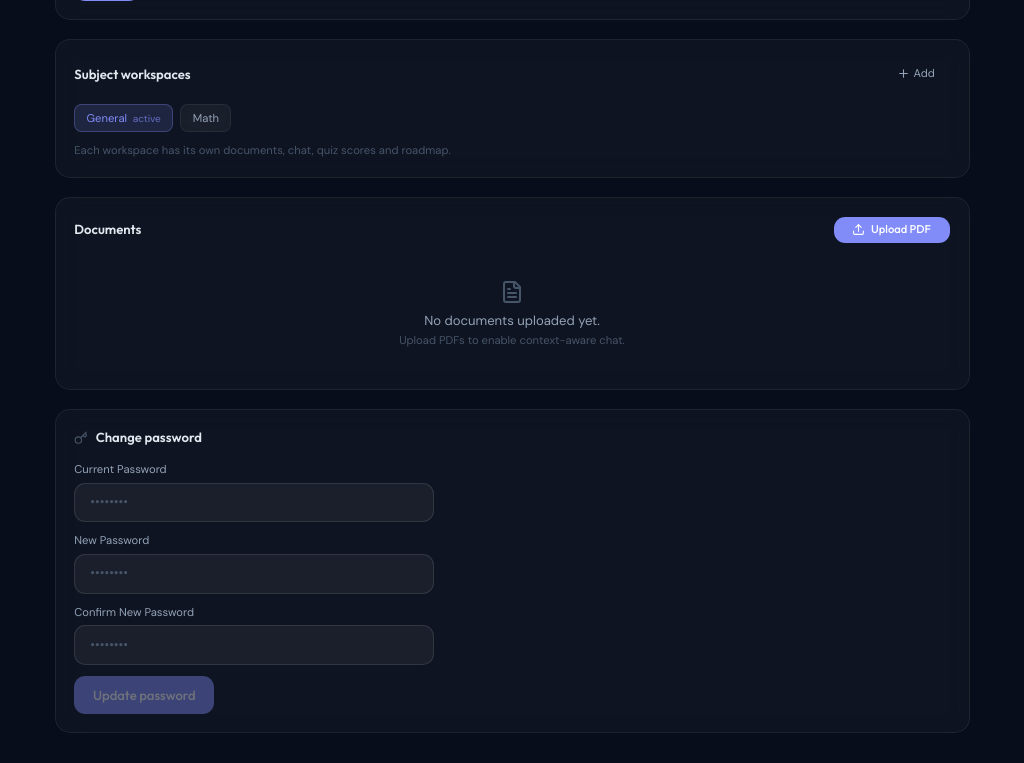
Scenario: ProfilePage › rejects a password change when confirmation does not match
(page scrolled)
Type "oldpass123" into the password field with placeholder "••••••••" below "Current password" at [254, 502], box 74,483 -> 434,522
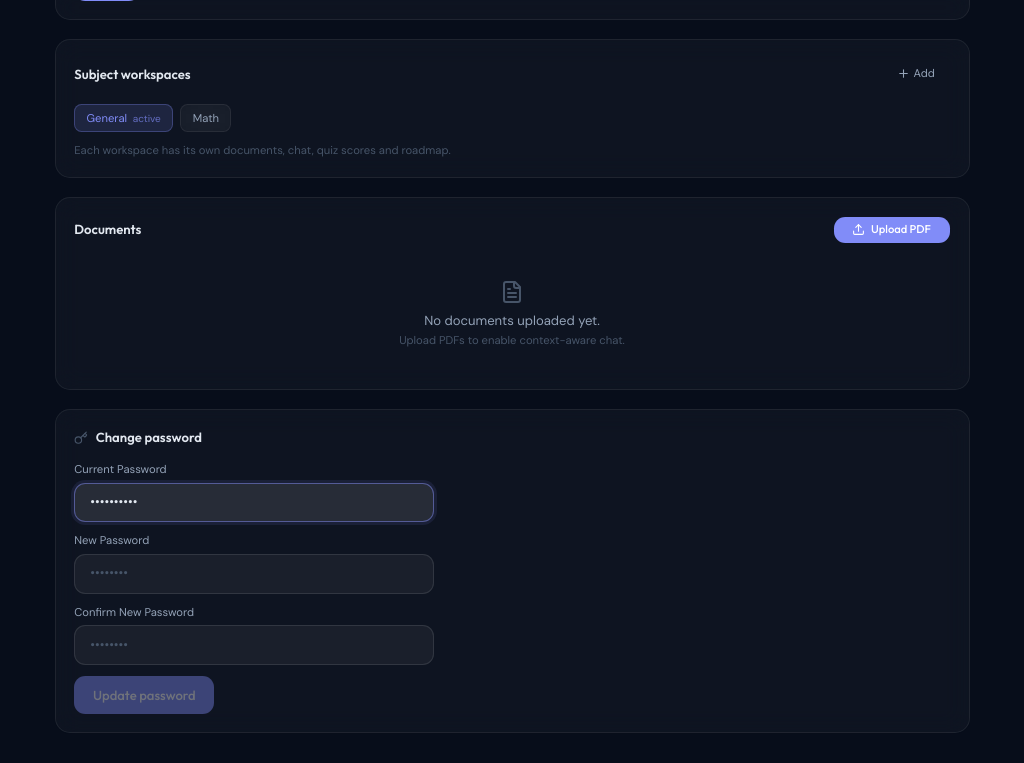
Type "newpass123" into the 1st password field with placeholder "••••••••" at [254, 574], box 74,554 -> 434,594
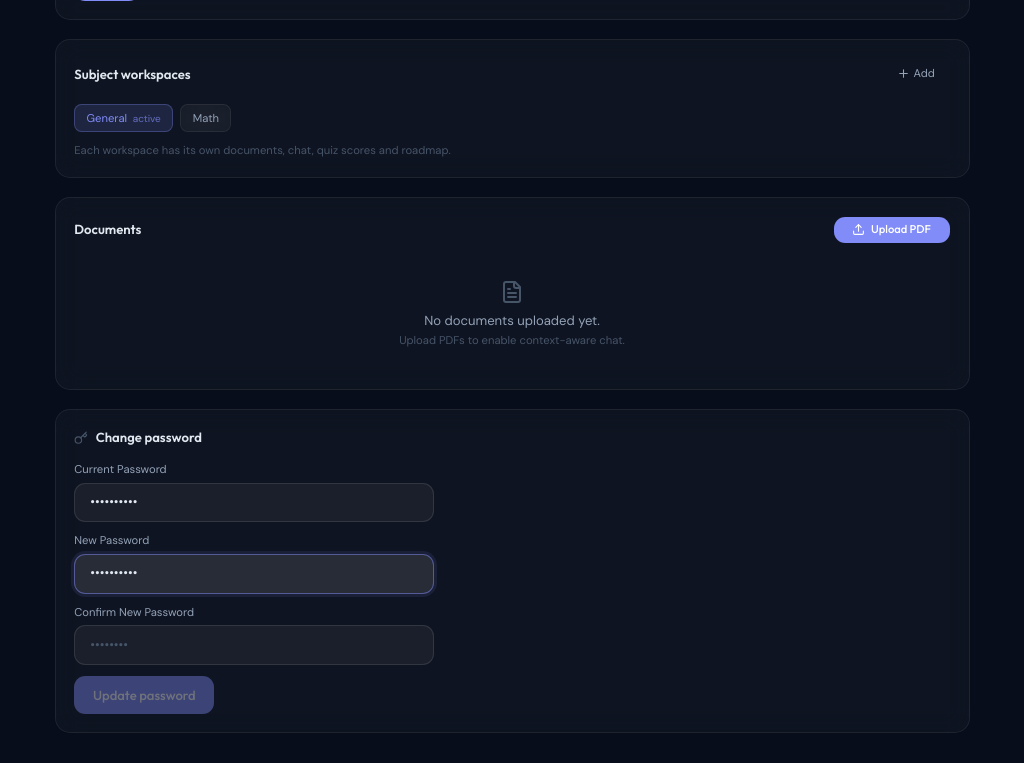
Type "different123" into the password field with placeholder "••••••••" at [254, 645], box 74,625 -> 434,665
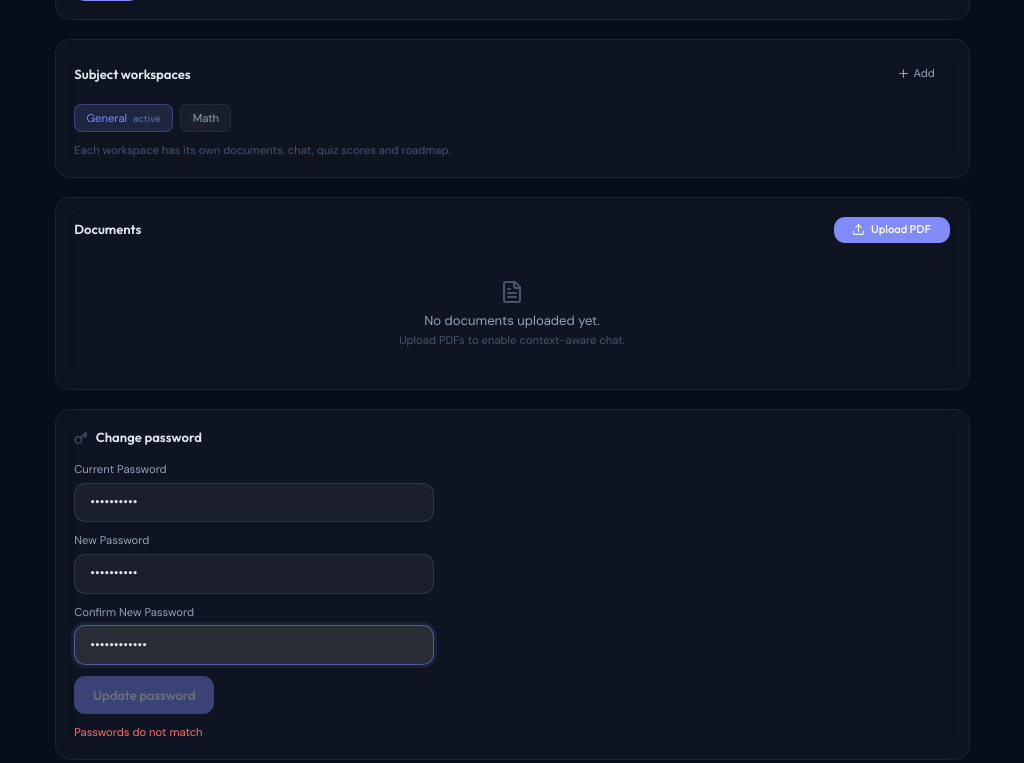
Expected: the button "Update password" is disabled, 74,676 -> 214,714
Now the text "Passwords do not match" is shown, box 74,725 -> 203,739
